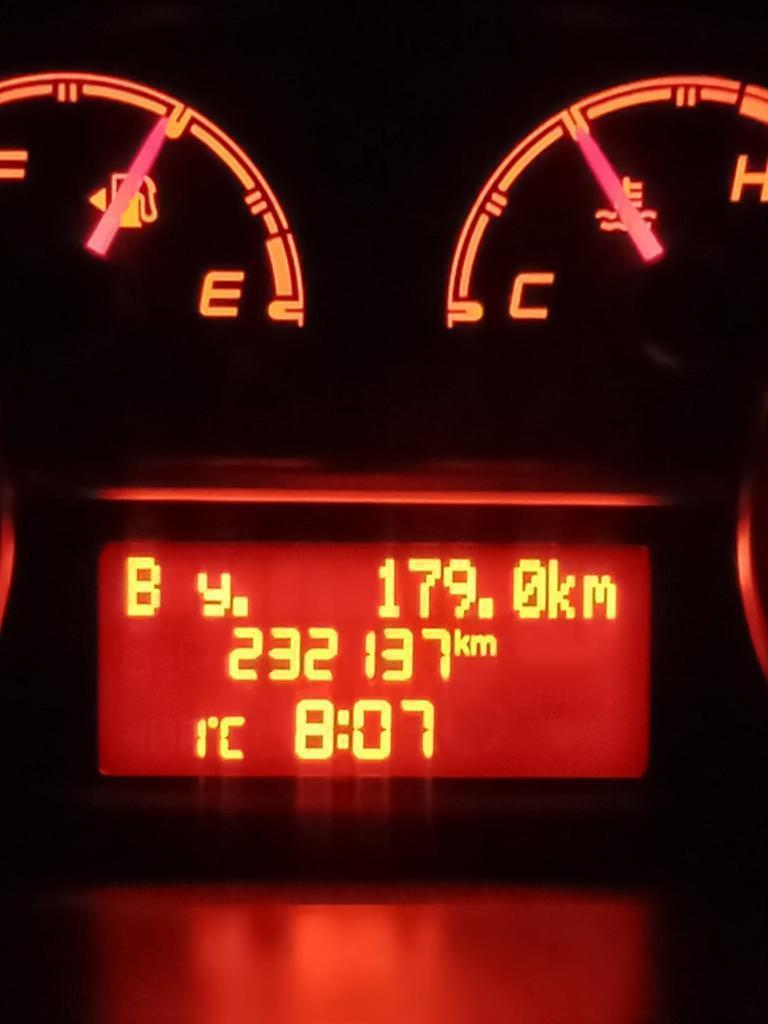,: (476, 596, 495, 620), (231, 594, 249, 618)
0: (351, 698, 392, 760), (511, 558, 548, 620)
1: (376, 557, 401, 618), (362, 630, 376, 679), (194, 717, 207, 759)
2: (302, 626, 339, 682), (227, 626, 263, 681)
3: (380, 626, 415, 682), (266, 626, 301, 681)
7: (407, 557, 442, 619), (399, 698, 435, 758), (420, 627, 451, 682)
8: (293, 698, 335, 760)
9: (441, 558, 476, 620)
X: (124, 556, 163, 618), (547, 557, 577, 620), (582, 573, 618, 620), (197, 571, 231, 617), (218, 715, 246, 760), (335, 708, 351, 750), (469, 634, 497, 657), (453, 627, 470, 657)
odometer: (92, 533, 656, 783)
